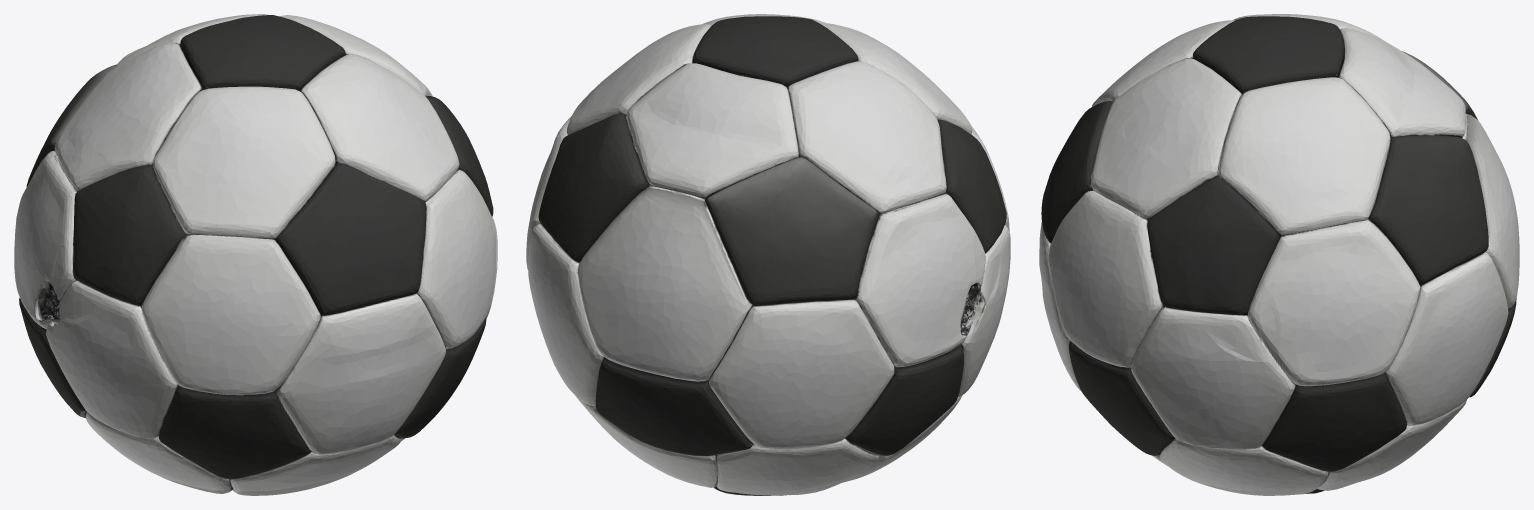
The model's file is toy_3.glb.
The picture shows the model from 3 angles, left to right: view 1: azimuth 30°, elevation 25°; view 2: azimuth 150°, elevation 25°; view 3: azimuth 270°, elevation 25°; orthographic projection.
Visible parts, largest first — view 1: tripo_node_0ee2361b-5bdf-467c-bcbe-251d028ad670; view 2: tripo_node_0ee2361b-5bdf-467c-bcbe-251d028ad670; view 3: tripo_node_0ee2361b-5bdf-467c-bcbe-251d028ad670.
Part boxes in pixels (left/top/right/bottom): tripo_node_0ee2361b-5bdf-467c-bcbe-251d028ad670: left=14, top=14, right=497, bottom=495; tripo_node_0ee2361b-5bdf-467c-bcbe-251d028ad670: left=526, top=14, right=1010, bottom=495; tripo_node_0ee2361b-5bdf-467c-bcbe-251d028ad670: left=1039, top=14, right=1519, bottom=495.
Size of the model in its own units: 0.9967 by 1 by 0.9969.
Materials: 1 (1 with a texture image).
